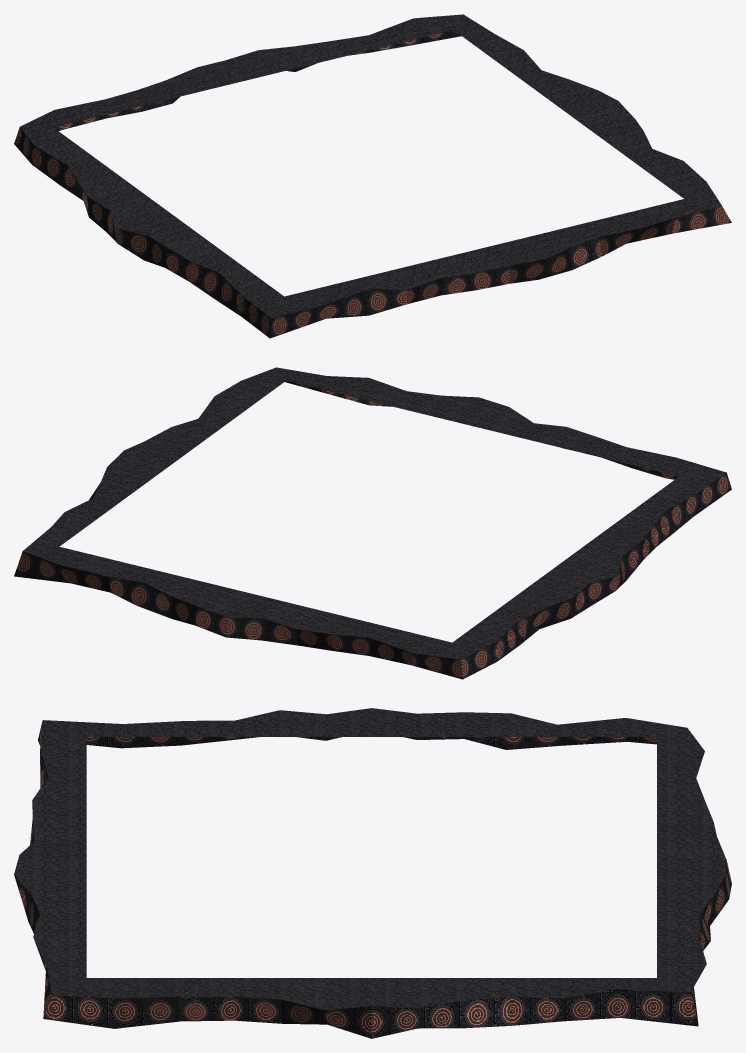
File: entorno_16.glb
3 renders of one model, top to bottom at view 1: azimuth 30°, elevation 25°; view 2: azimuth 150°, elevation 25°; view 3: azimuth 270°, elevation 25°, orthographic. The views are drawn at different scales.
Parts seen in each view (by area): view 1: vulcao_entorno_16; view 2: vulcao_entorno_16; view 3: vulcao_entorno_16.
Part boxes in pixels (bbox=[...]): vulcao_entorno_16: bbox=[14, 14, 731, 338]; vulcao_entorno_16: bbox=[14, 367, 731, 679]; vulcao_entorno_16: bbox=[14, 708, 731, 1038].
Bounding box in the file's own units: 20.59 × 1.07 × 20.39.
2 materials, 2 textured.
